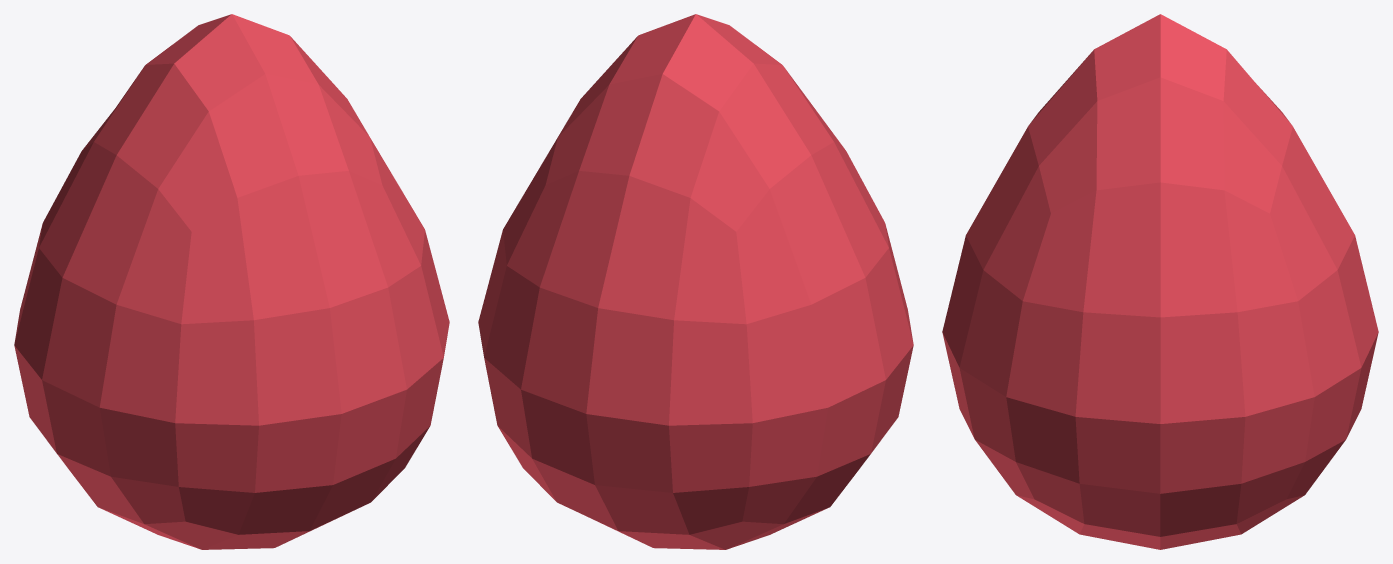
File: Bullet.fbx
3 views of the same model, side by side, from view 1: azimuth 30°, elevation 25°; view 2: azimuth 150°, elevation 25°; view 3: azimuth 270°, elevation 25° (orthographic).
Parts seen in each view (by area): view 1: Cube; view 2: Cube; view 3: Cube.
Boxes of the visible parts, bbox=[...] form: Cube: bbox=[14, 14, 449, 549]; Cube: bbox=[478, 14, 913, 549]; Cube: bbox=[942, 14, 1378, 549].
Bounding box in the file's own units: 144 × 188 × 144.
